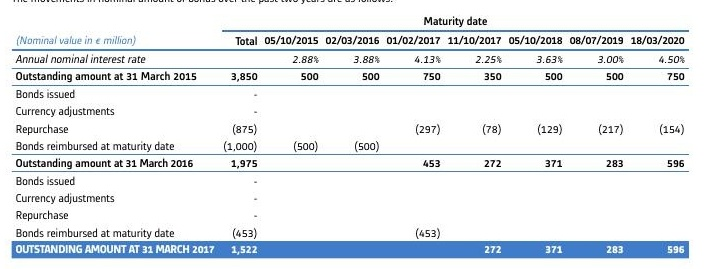table: (0, 0, 707, 269)
